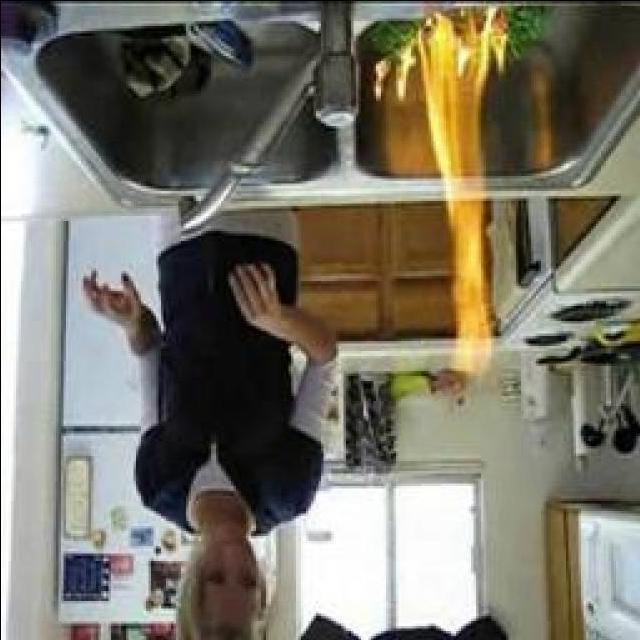Fire: (417, 9, 508, 370), (372, 50, 420, 100)
